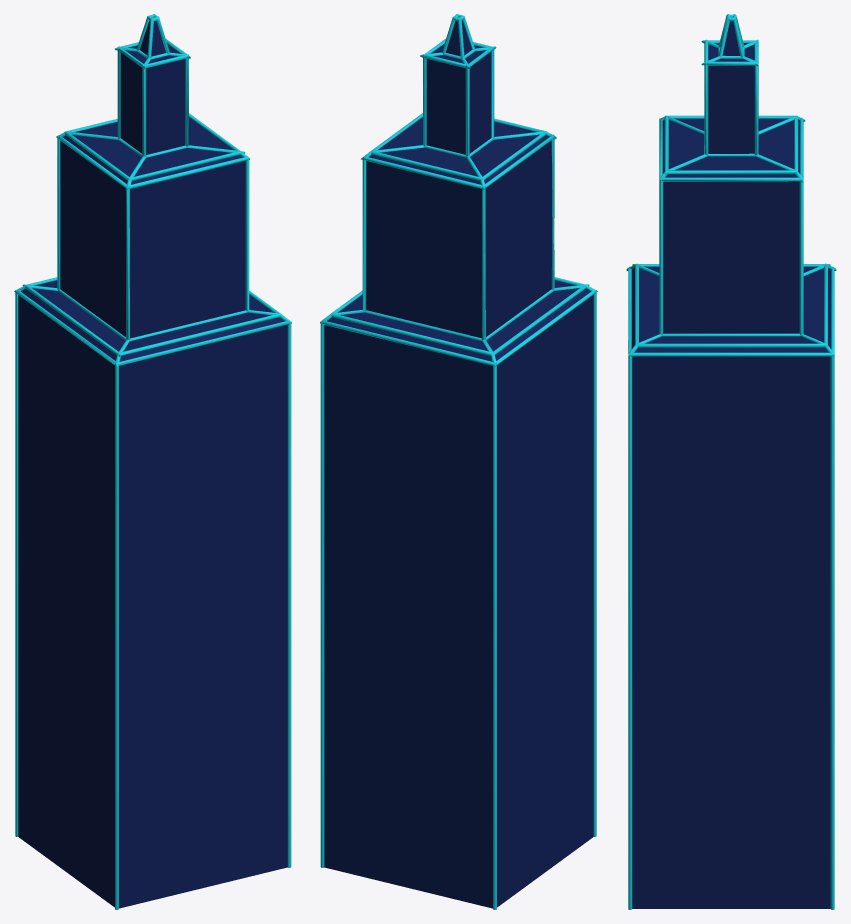
Rendered from Torre02_Mapa01.FBX.
3 views of the same model, side by side, from view 1: azimuth 30°, elevation 25°; view 2: azimuth 150°, elevation 25°; view 3: azimuth 270°, elevation 25° (orthographic).
Parts seen in each view (by area): view 1: Box006, Shape006; view 2: Box006, Shape006; view 3: Box006, Shape006.
Boxes of the visible parts, box(x1,y1,x2,y2) form: Box006: box(18, 20, 287, 908); Shape006: box(14, 14, 291, 909); Box006: box(324, 20, 593, 908); Shape006: box(320, 14, 597, 909); Box006: box(631, 21, 831, 908); Shape006: box(626, 14, 836, 909).
Size of the model in its own units: 102 by 463 by 104.
